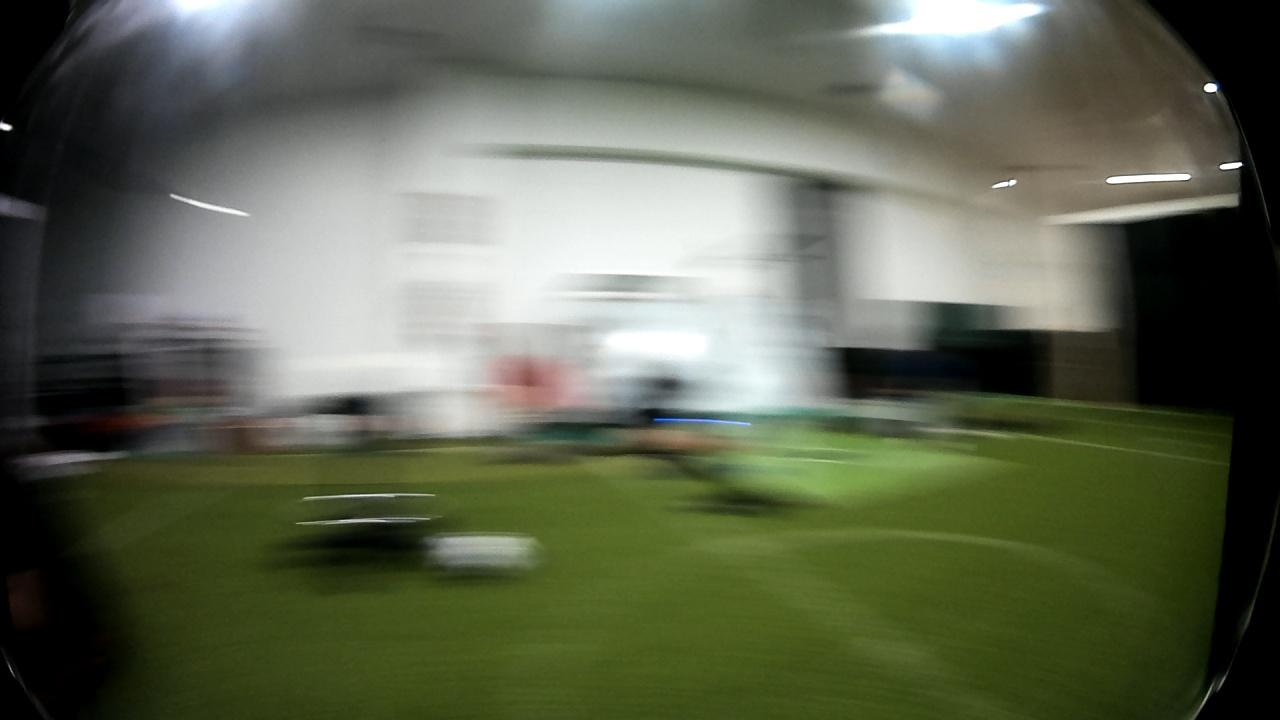ball: (417, 526, 555, 583)
